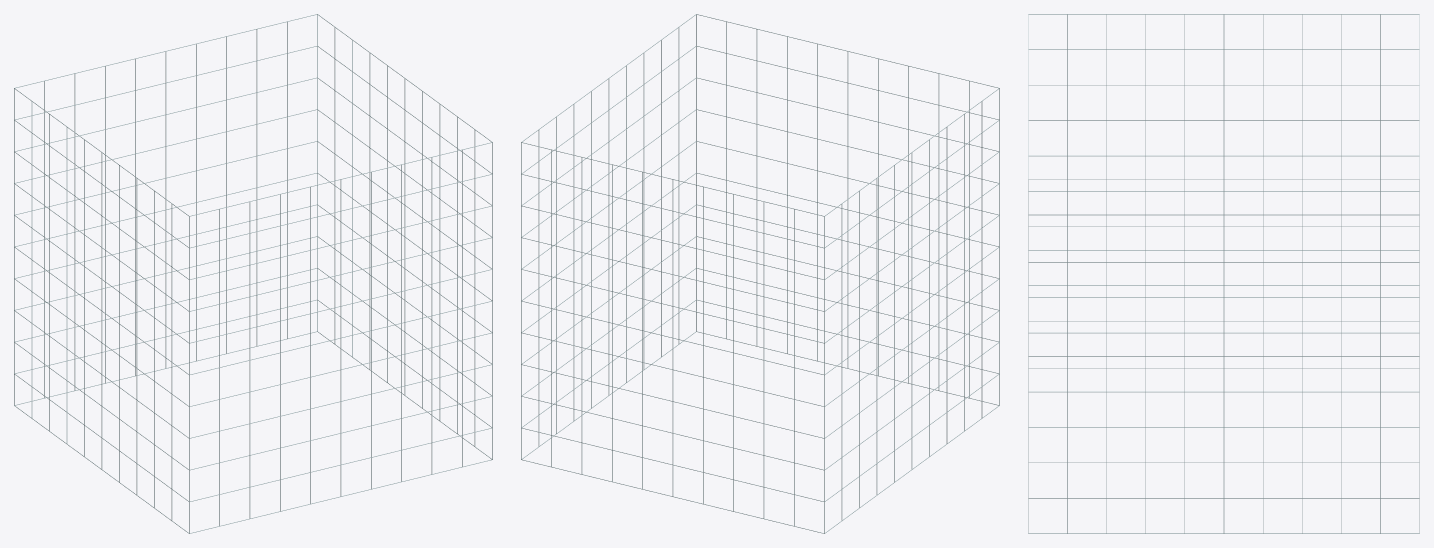
3 renders of one model, left to right at view 1: azimuth 30°, elevation 25°; view 2: azimuth 150°, elevation 25°; view 3: azimuth 270°, elevation 25°, orthographic. The views are drawn at different scales.
Parts seen in each view (by area): view 1: cube05.001, cube07.001, cube06.001, cube08.001; view 2: cube07.001, cube05.001, cube08.001, cube06.001; view 3: cube06.001, cube08.001, cube05.001.
Part boxes in pixels (x1,y1,x2,y2): cube05.001: (189,142,492,533); cube07.001: (14,14,317,405); cube06.001: (317,14,492,459); cube08.001: (14,88,188,533); cube07.001: (521,142,824,533); cube05.001: (696,14,999,405); cube08.001: (824,88,999,533); cube06.001: (521,14,696,459); cube06.001: (1028,179,1419,533); cube08.001: (1028,14,1419,368); cube05.001: (1028,14,1028,533).
Bounding box in the file's own units: 2.5 × 2.5 × 2.5.
